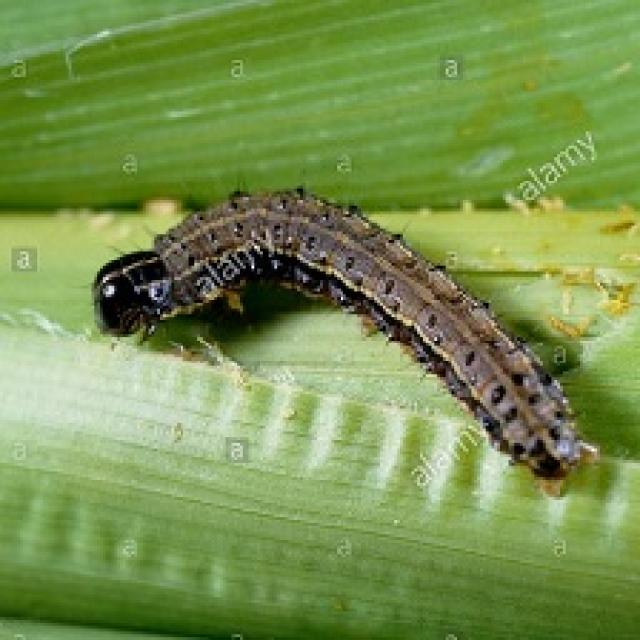worm: (90, 181, 601, 498)
